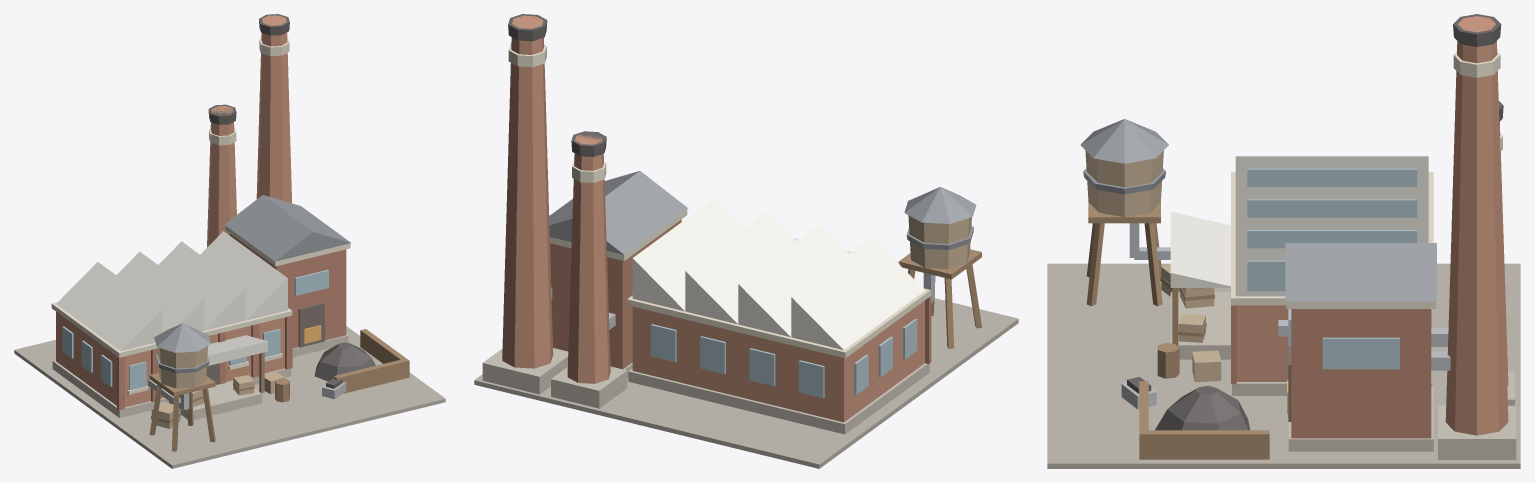
File: factory.glb
3 views of the same model, side by side, from view 1: azimuth 30°, elevation 25°; view 2: azimuth 150°, elevation 25°; view 3: azimuth 270°, elevation 25° (orthographic). The views are drawn at different scales.
Parts seen in each view (by area): view 1: factory; view 2: factory; view 3: factory.
Part boxes in pixels (x1=…): factory: x1=14, y1=14, x2=445, y2=468; factory: x1=474, y1=14, x2=1018, y2=468; factory: x1=1047, y1=14, x2=1520, y2=468.
Bounding box in the file's own units: 0.98 × 0.971 × 0.98.
